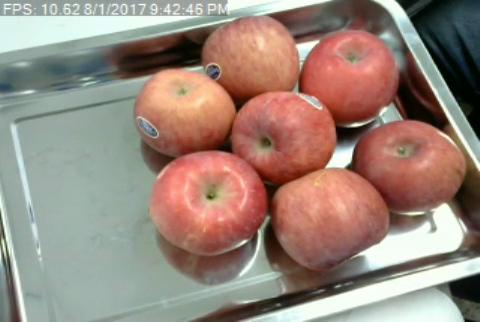apple: (148, 151, 266, 255), (272, 168, 390, 271), (352, 120, 467, 215), (298, 30, 399, 126), (235, 89, 336, 183), (135, 69, 235, 152), (203, 15, 299, 92)
